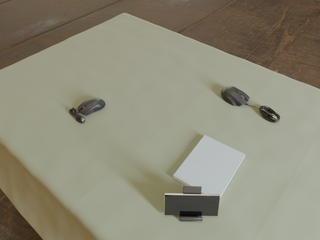book: (173, 135, 245, 198)
mouse: (69, 98, 105, 123), (221, 86, 249, 106)
phone: (164, 193, 220, 216)
